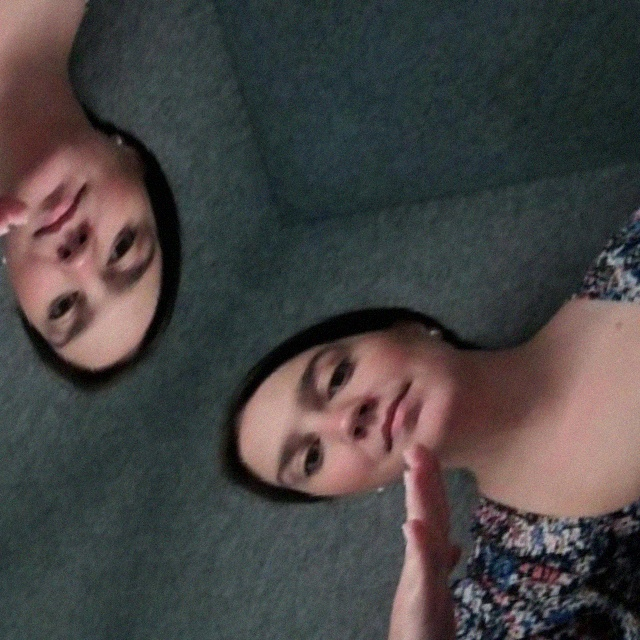Paper: (0, 40, 86, 501)
